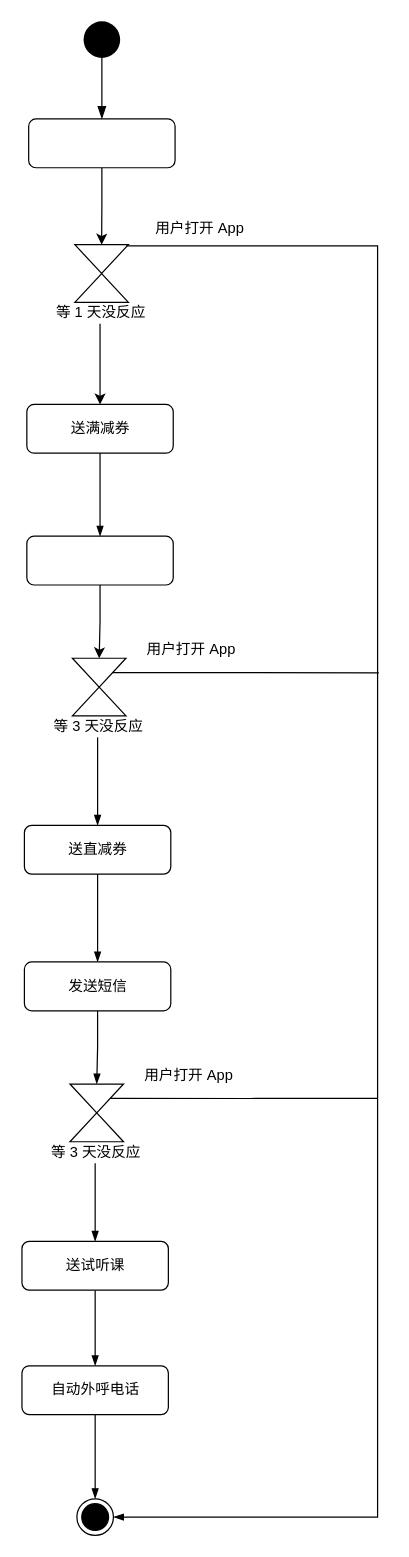
Some shapes in this 409 by 1557 pixel diagram are drawn without their labels. The centre of each missing label's shape, as x and y in pixels:
"发送 App Push" belongs at point (101, 143).
"发送服务号 Push" belongs at point (99, 560).
